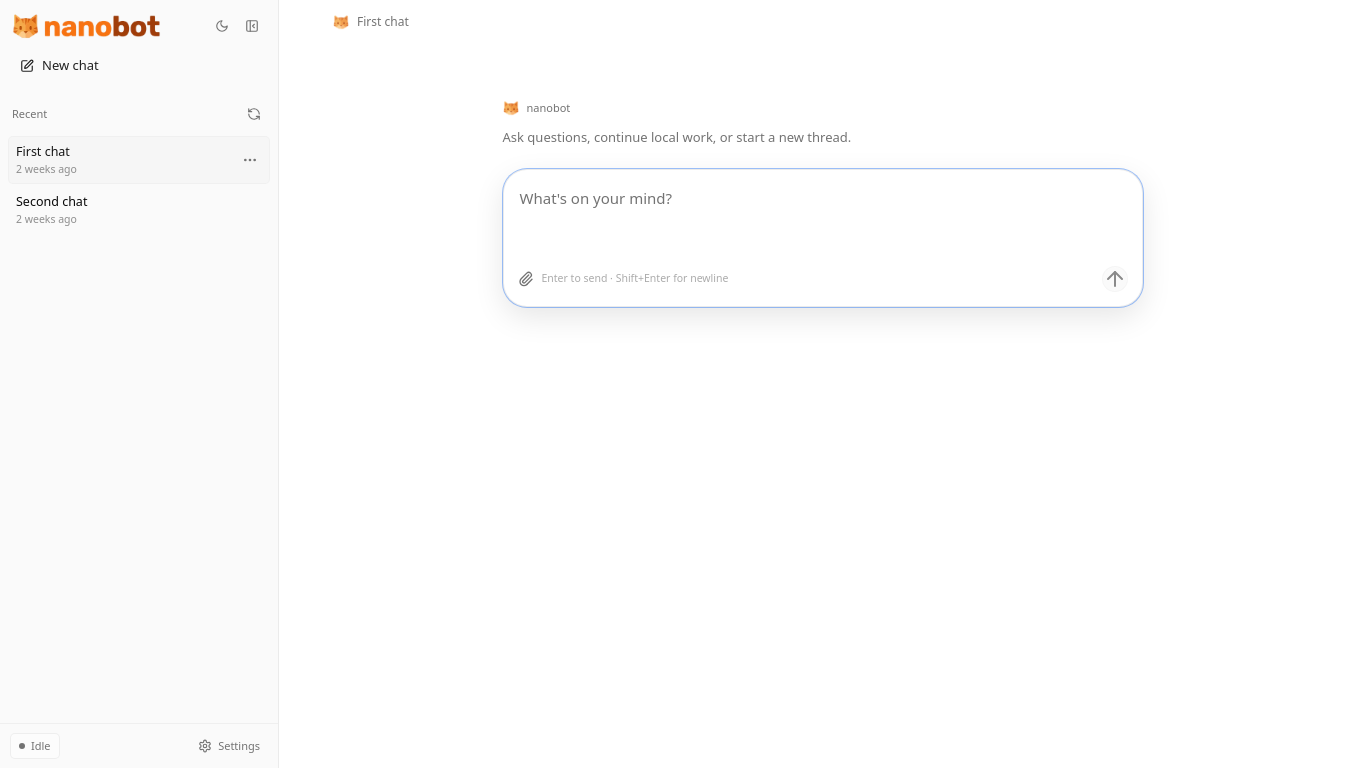
Test: App layout › switches to the next session when deleting the active chat
Expected: the button "First chat" is shown, [327, 9, 415, 35]
Press the mouse on the button named "Chat actions for First chat" at (250, 160), box [238, 148, 262, 172]
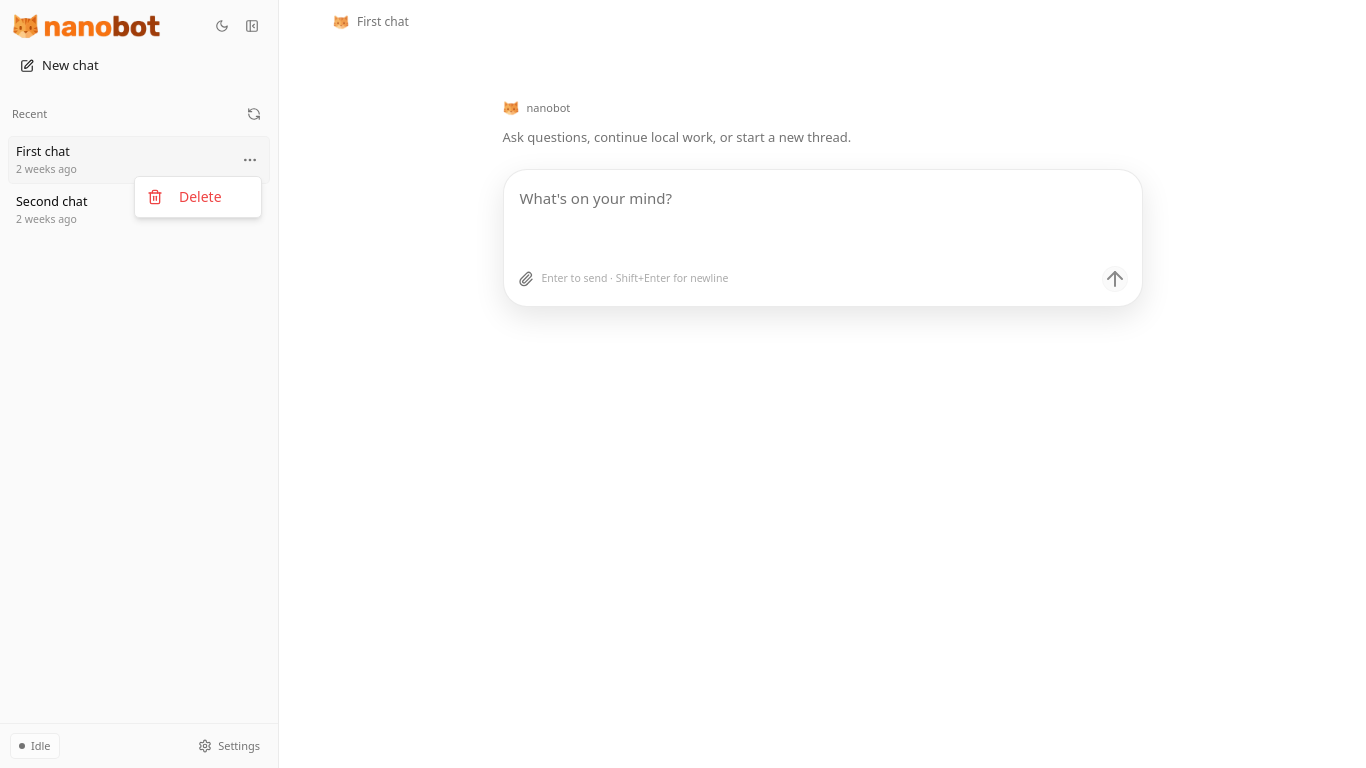
Click the menu item "Delete" at (184, 196), box [147, 187, 222, 206]
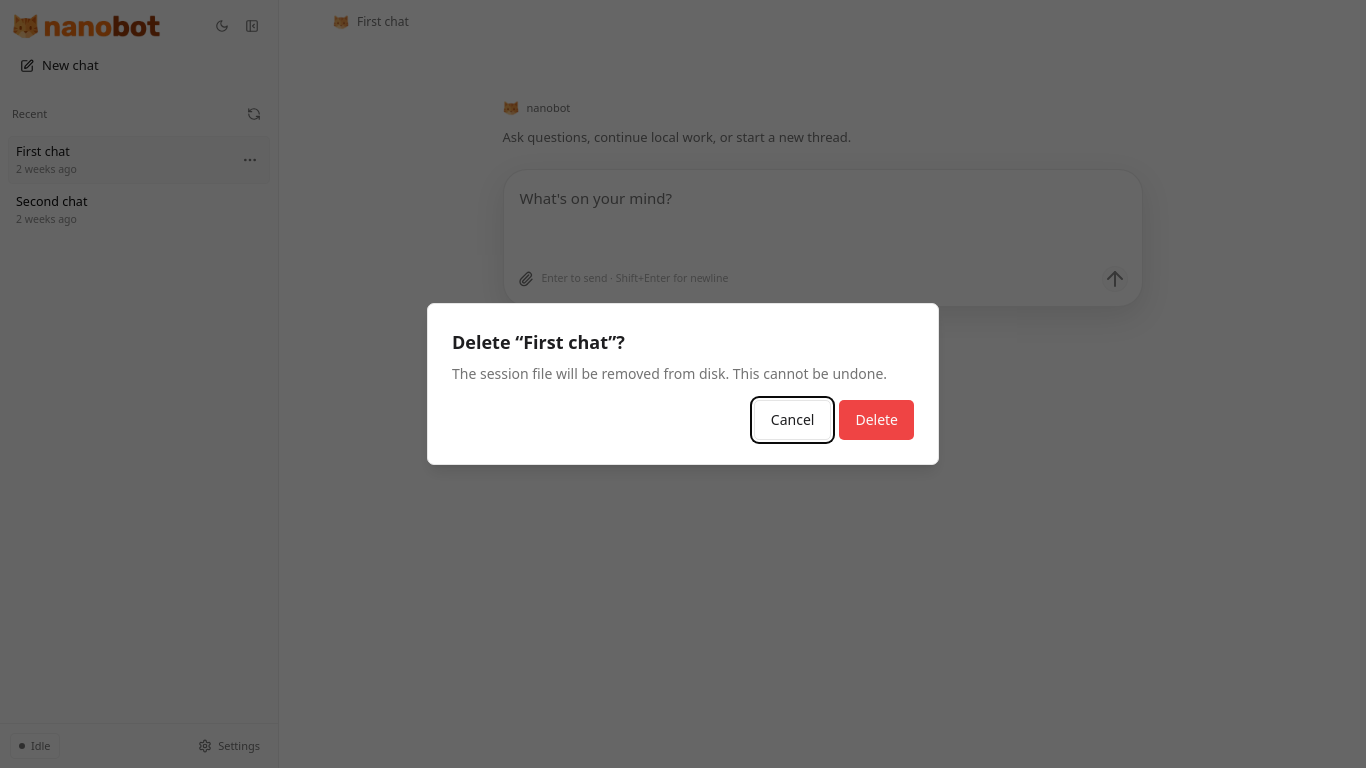
Expected: the heading "Delete “First chat”?" is shown, [452, 330, 625, 354]
Click the button "Delete" at (877, 420), box [839, 400, 914, 440]
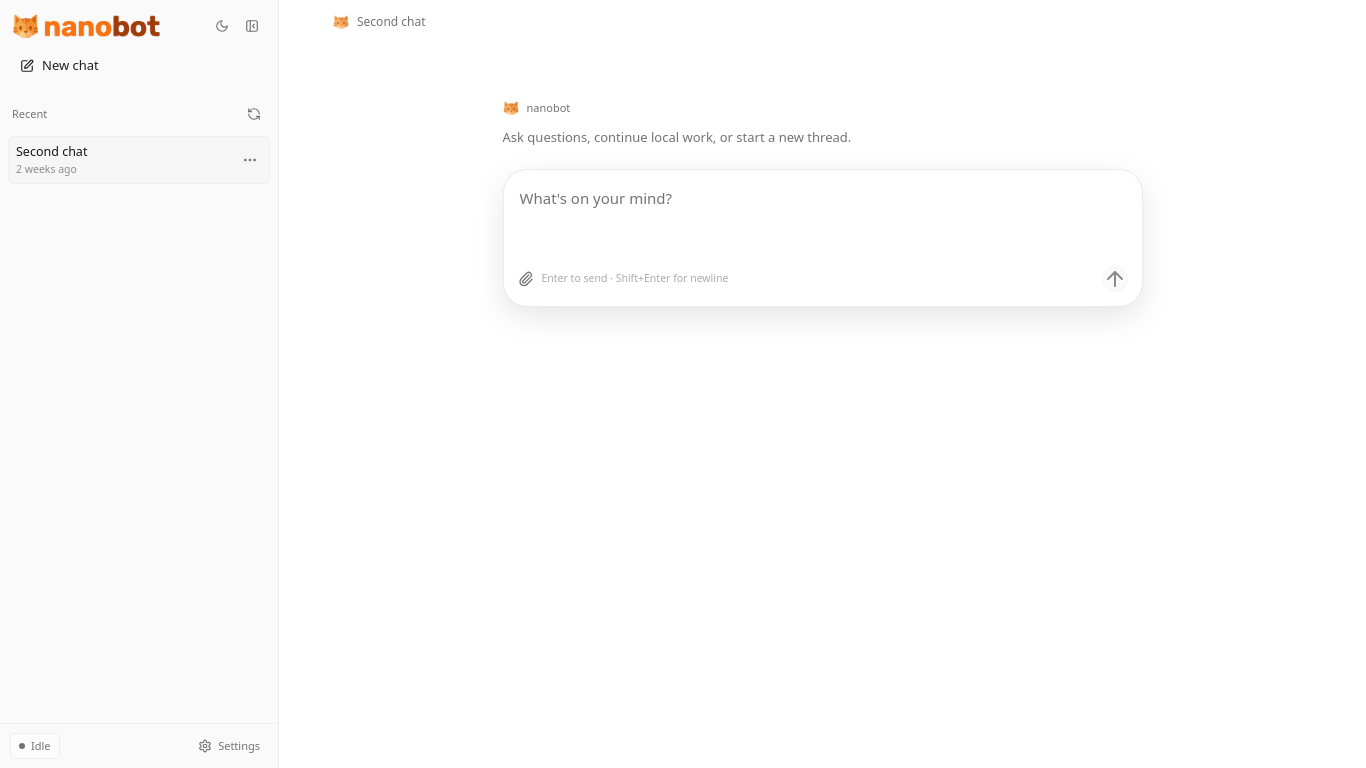
Expected: the button "Second chat" is shown, [327, 9, 432, 35]
Expected: the heading "Delete “First chat”?" is gone
